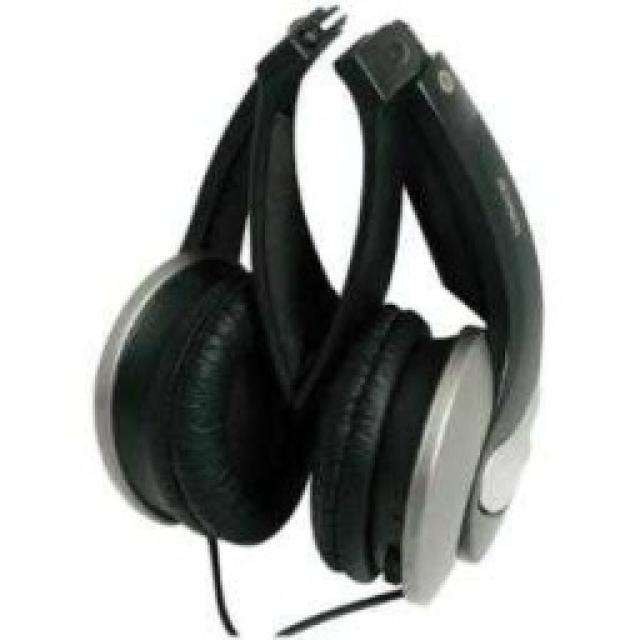headphones: (90, 2, 545, 608)
